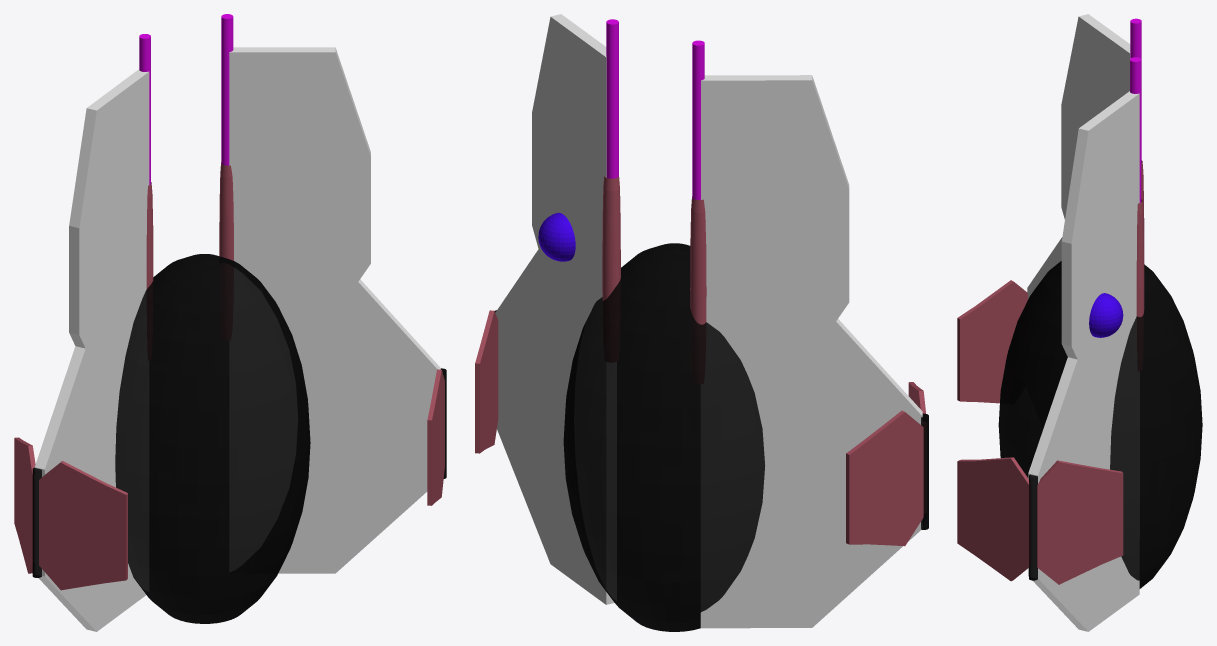
File: NewPlayerShip 1.fbx
3 views of the same model, side by side, from view 1: azimuth 30°, elevation 25°; view 2: azimuth 150°, elevation 25°; view 3: azimuth 270°, elevation 25° (orthographic). The views are drawn at different scales.
Parts seen in each view (by area): view 1: Cube, Sphere, Cube.001, Cube.003, Torus, Cube.002, Cube.005, Torus.001, Cylinder; view 2: Cube.001, Sphere, Cube, Cube.002, Torus, Cube.004, Torus.001, Sphere.001, Cylinder; view 3: Cube, Sphere, Cube.004, Cube.005, Cube.001, Cube.003, Torus, Sphere.001, Cylinder.001.
Boxes of the visible parts, box(x1,y1,x2,y2) form: Cube: box(221, 14, 440, 573); Sphere: box(115, 254, 310, 623); Cube.001: box(34, 34, 150, 631); Cube.003: box(39, 461, 127, 590); Torus: box(219, 162, 233, 339); Cube.002: box(14, 437, 35, 573); Cube.005: box(427, 369, 444, 505); Torus.001: box(146, 182, 153, 359); Cylinder: box(32, 467, 41, 577); Cube.001: box(692, 40, 922, 628); Sphere: box(563, 243, 765, 631); Cube: box(495, 14, 618, 604); Cube.002: box(846, 410, 923, 546); Torus: box(602, 176, 620, 361); Cube.004: box(475, 310, 498, 453); Torus.001: box(690, 196, 706, 383); Sphere.001: box(538, 212, 575, 261); Cylinder: box(921, 413, 928, 529); Cube: box(1028, 57, 1141, 631); Sphere: box(998, 261, 1202, 588); Cube.004: box(1037, 460, 1123, 584); Cube.005: box(957, 457, 1030, 581); Cube.001: box(1027, 14, 1141, 299); Cube.003: box(957, 280, 1027, 403); Torus: box(1136, 199, 1144, 370); Sphere.001: box(1089, 293, 1123, 337); Cylinder.001: box(1029, 474, 1037, 580).
Bounding box in the file's own units: 2022 × 2663 × 1082.
